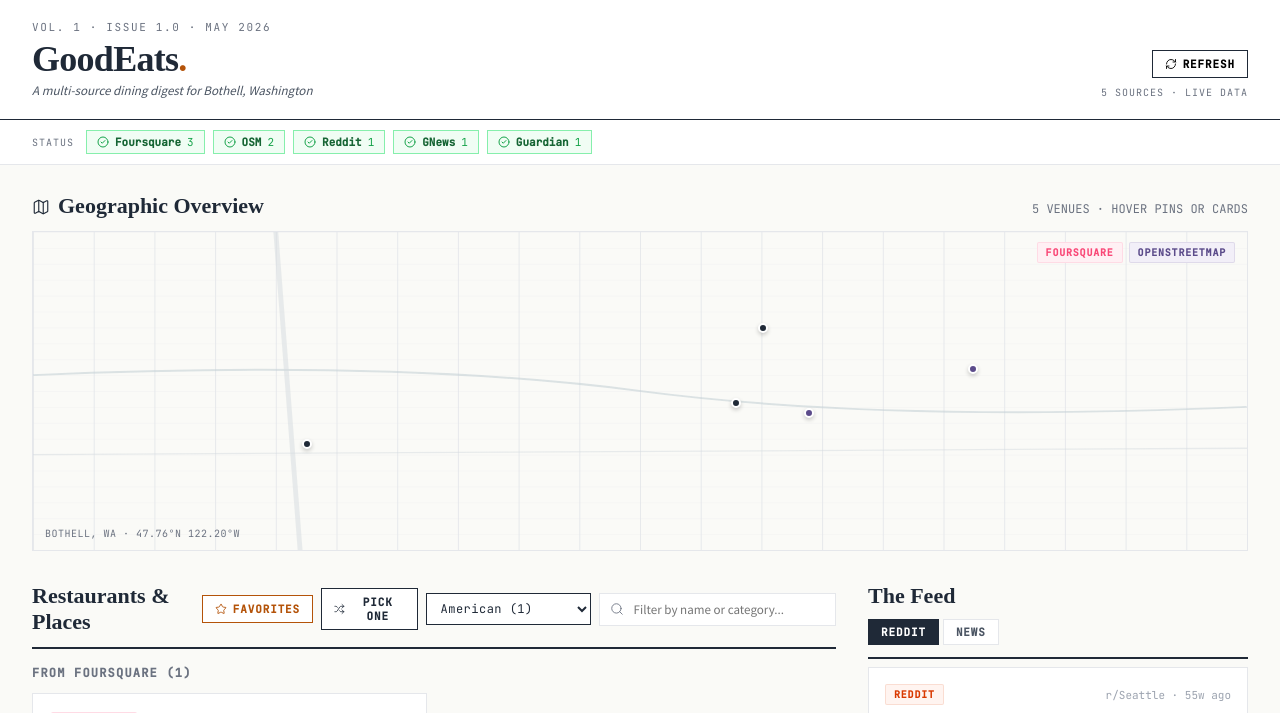
Scenario: GoodEats App — feed filter tabs › shows news articles when News tab is active
Click the button "News": (971, 632) [943, 619, 999, 645]
(page scrolled)
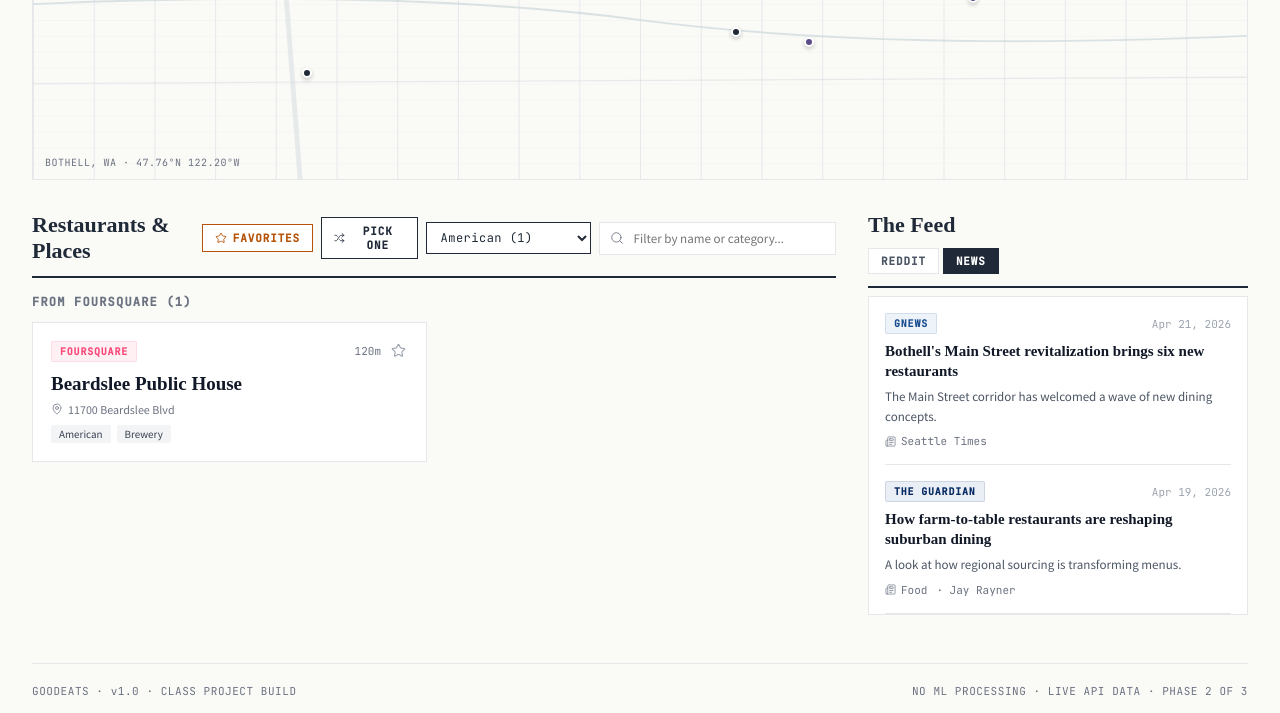
Expected: the link "Bothell's Main Street revitalization brings six new restaurants" is shown, [885, 343, 1204, 378]
